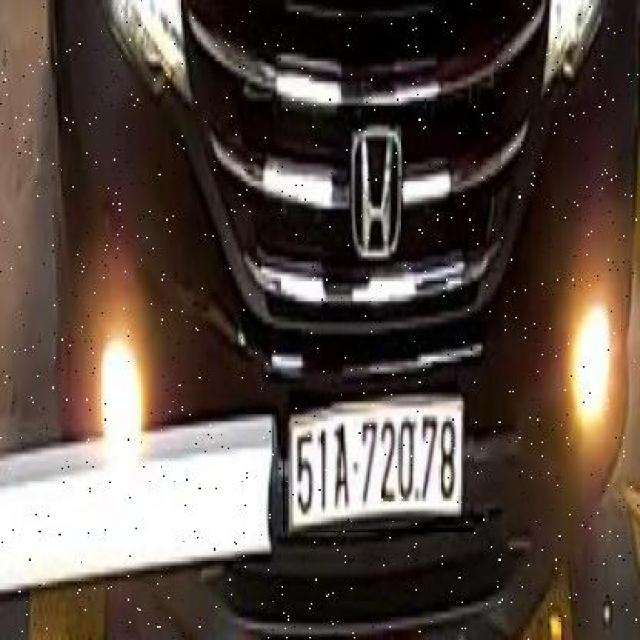number_plate: (282, 392, 475, 532)
